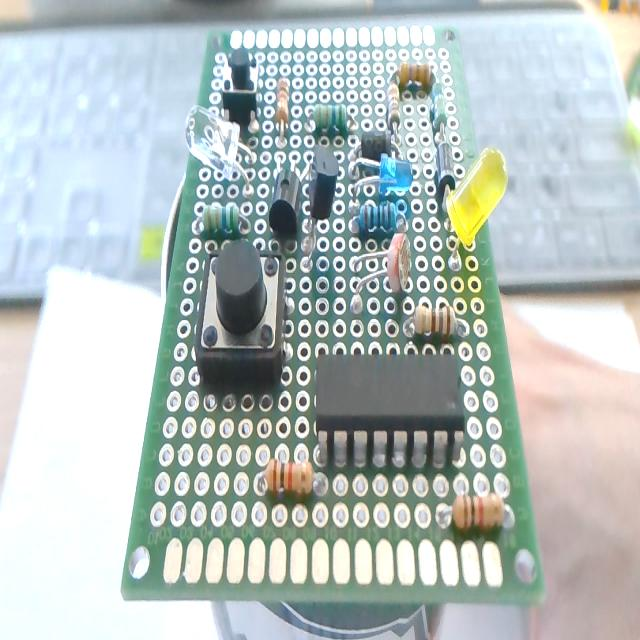IC: (316, 352, 464, 461)
cds: (349, 232, 412, 308)
diode: (434, 142, 456, 202), (362, 130, 394, 162)
led: (439, 143, 507, 270), (186, 104, 254, 190), (352, 152, 414, 197)
resistor: (452, 494, 502, 530), (263, 458, 313, 494), (356, 202, 402, 238), (413, 303, 455, 338), (202, 202, 240, 238), (312, 104, 348, 136), (387, 74, 403, 146), (396, 61, 432, 91), (276, 76, 290, 136)
switch: (196, 242, 286, 388), (223, 48, 259, 126)
transistor: (300, 148, 338, 272), (270, 165, 300, 238)
